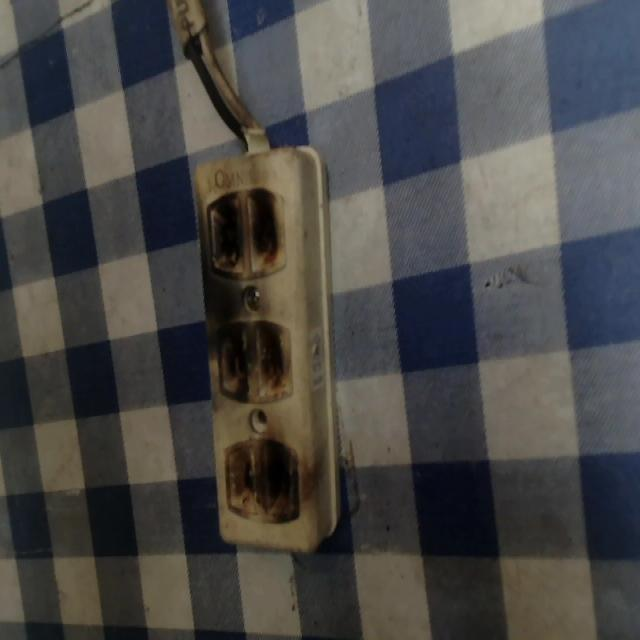-: (204, 184, 290, 281), (225, 428, 304, 521), (214, 317, 295, 403)
